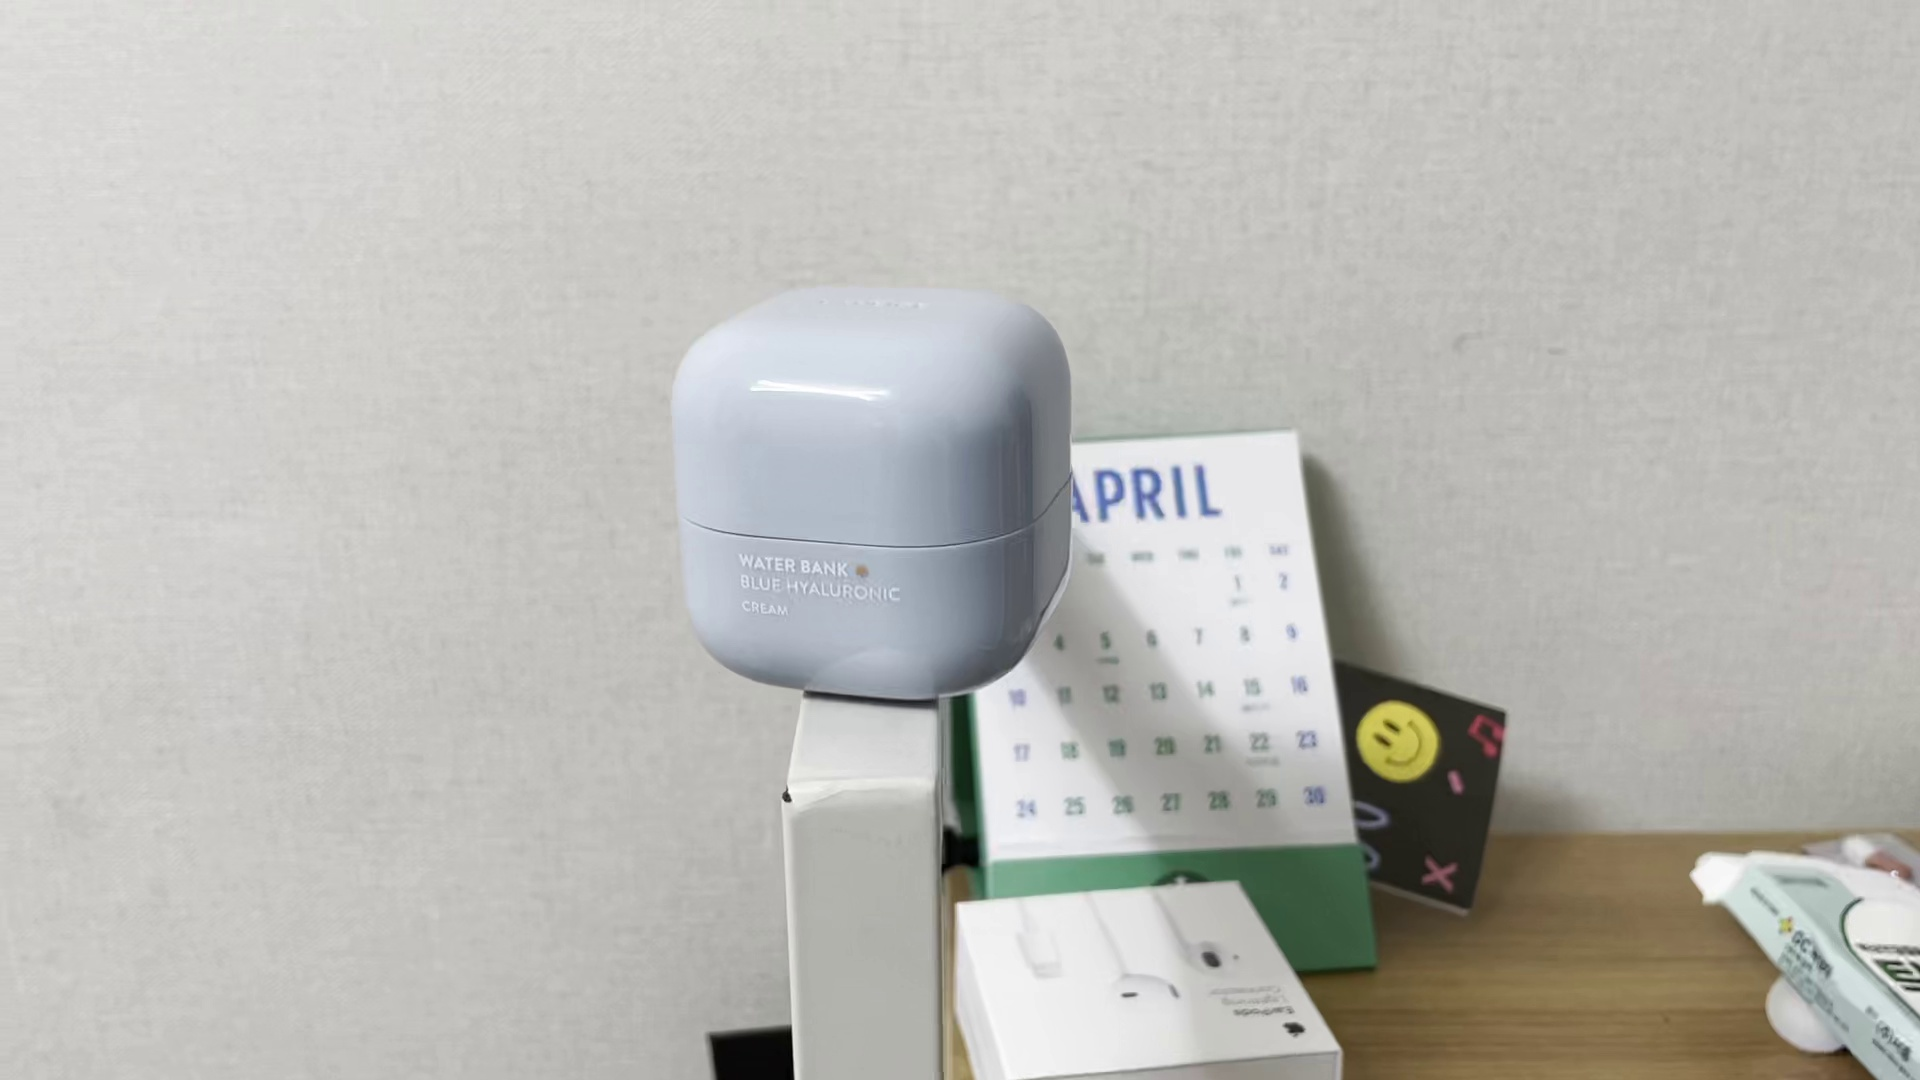cream: (676, 287, 1081, 703)
